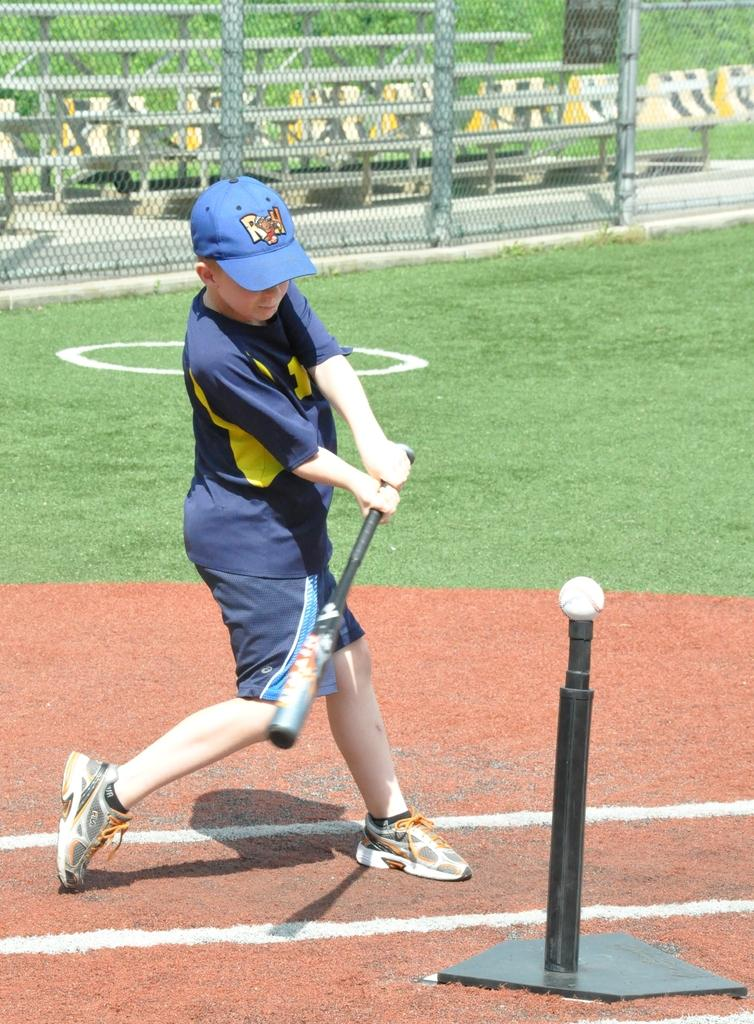Hat: (190, 173, 319, 292)
